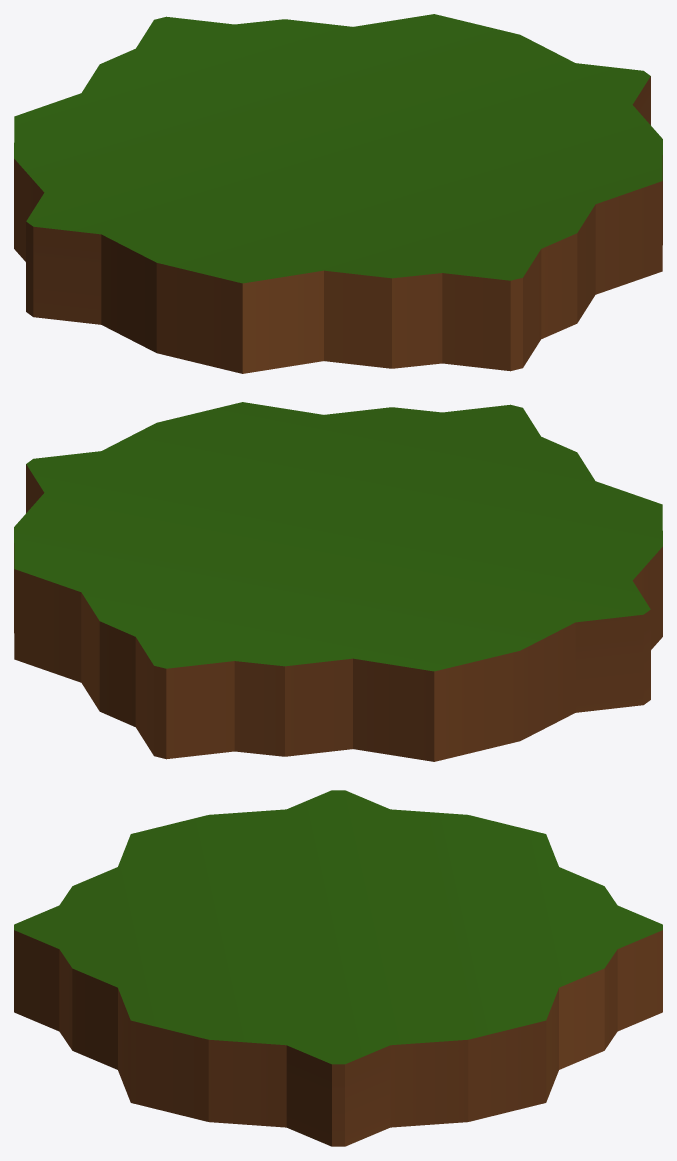
The model's file is Ground_piece_var_2.glb.
The picture shows the model from 3 angles, top to bottom: view 1: azimuth 30°, elevation 25°; view 2: azimuth 150°, elevation 25°; view 3: azimuth 270°, elevation 25°; orthographic projection. The views are drawn at different scales.
Parts seen in each view (by area): view 1: Plane; view 2: Plane; view 3: Plane.
Part boxes in pixels (x1,y1,x2,y2): Plane: [14, 14, 662, 373]; Plane: [14, 402, 662, 761]; Plane: [14, 790, 662, 1146].
Size of the model in its own units: 200 by 28 by 200.
1 material, 1 textured.
